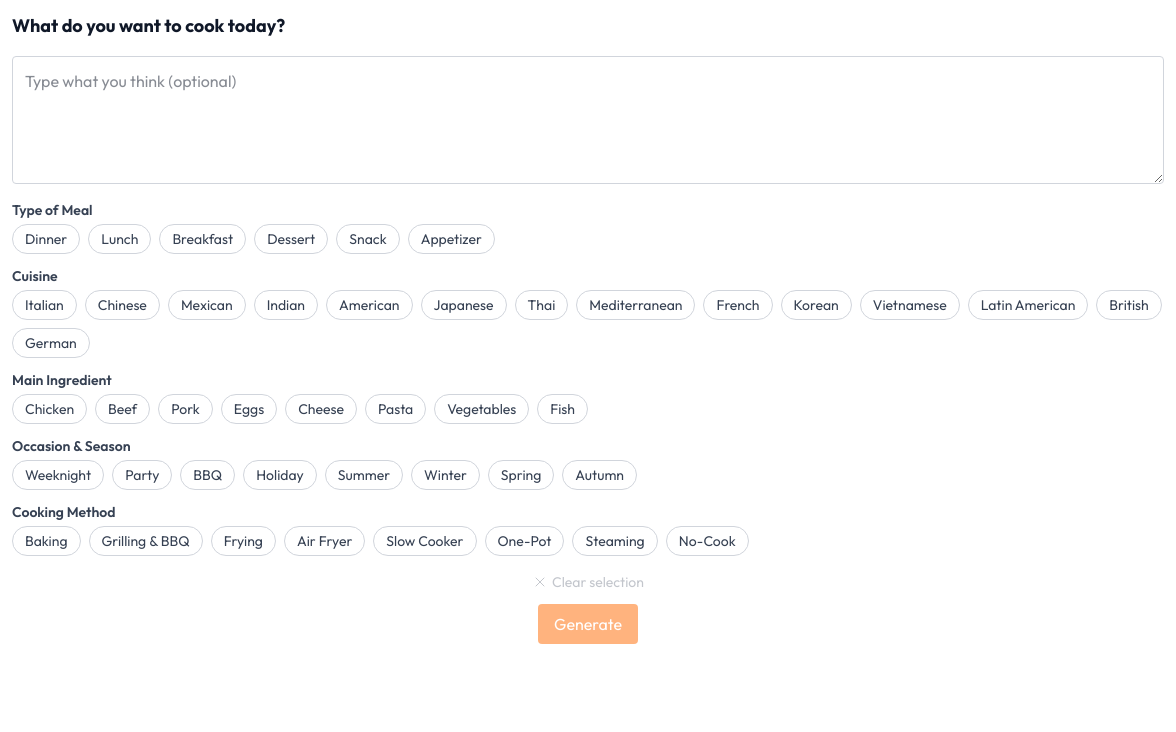
Test case: GeneratePage › clears the prompt and selected tags via the clear button
Expected: the button "Clear selection" is disabled, top-left (532, 572), bottom-right (644, 592)
In the text box with placeholder "Type what you think (optional)": (588, 120) top-left (12, 56), bottom-right (1164, 184), type "pasta"
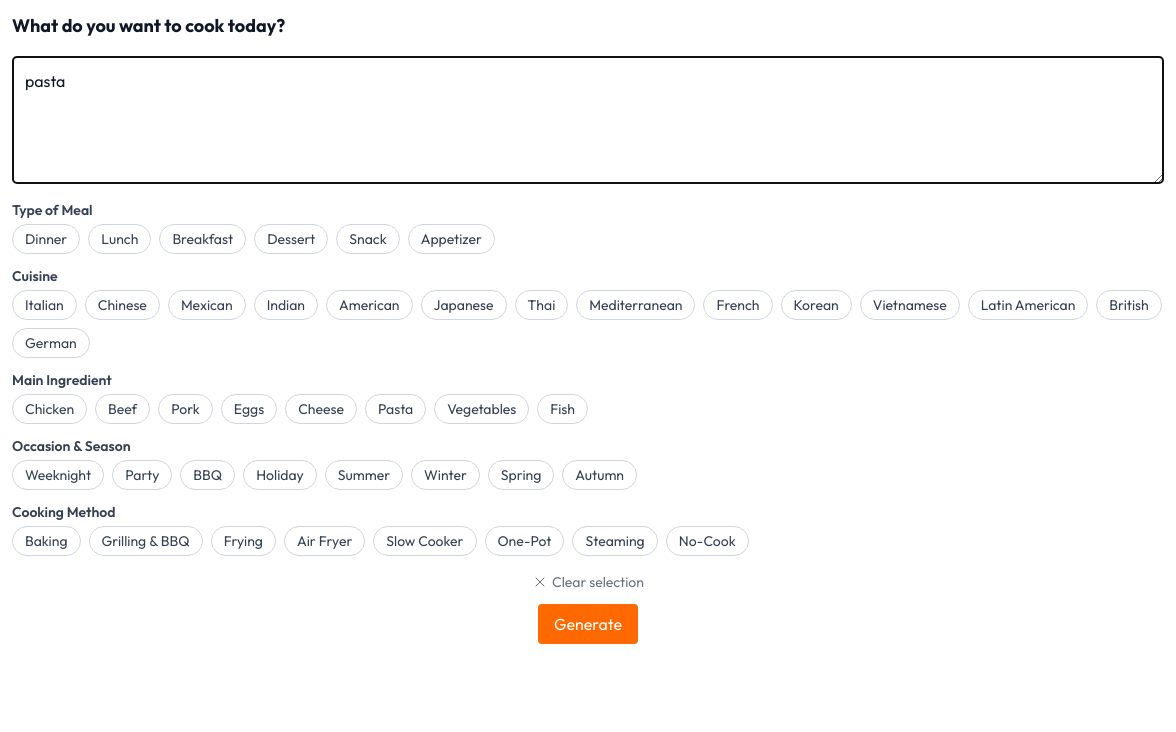
Click the button "Dinner": (46, 239) top-left (12, 224), bottom-right (80, 254)
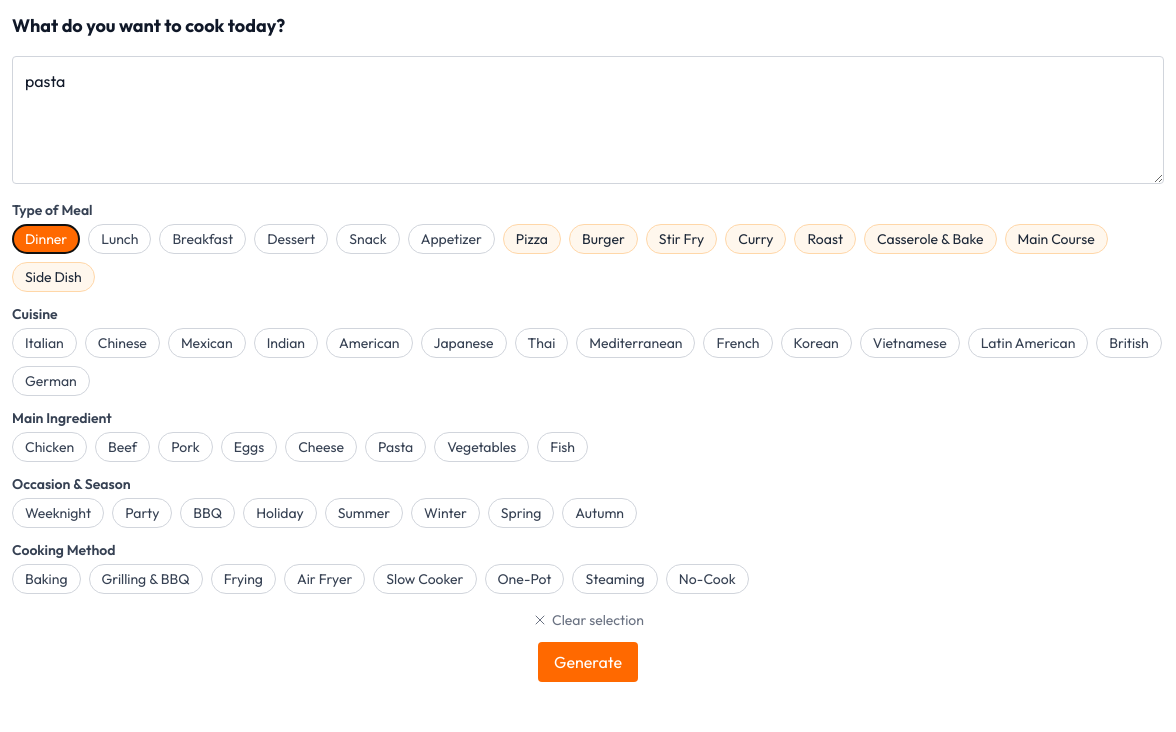
Now the button "Clear selection" is enabled
Click the button "Clear selection": (588, 620) top-left (532, 610), bottom-right (644, 630)
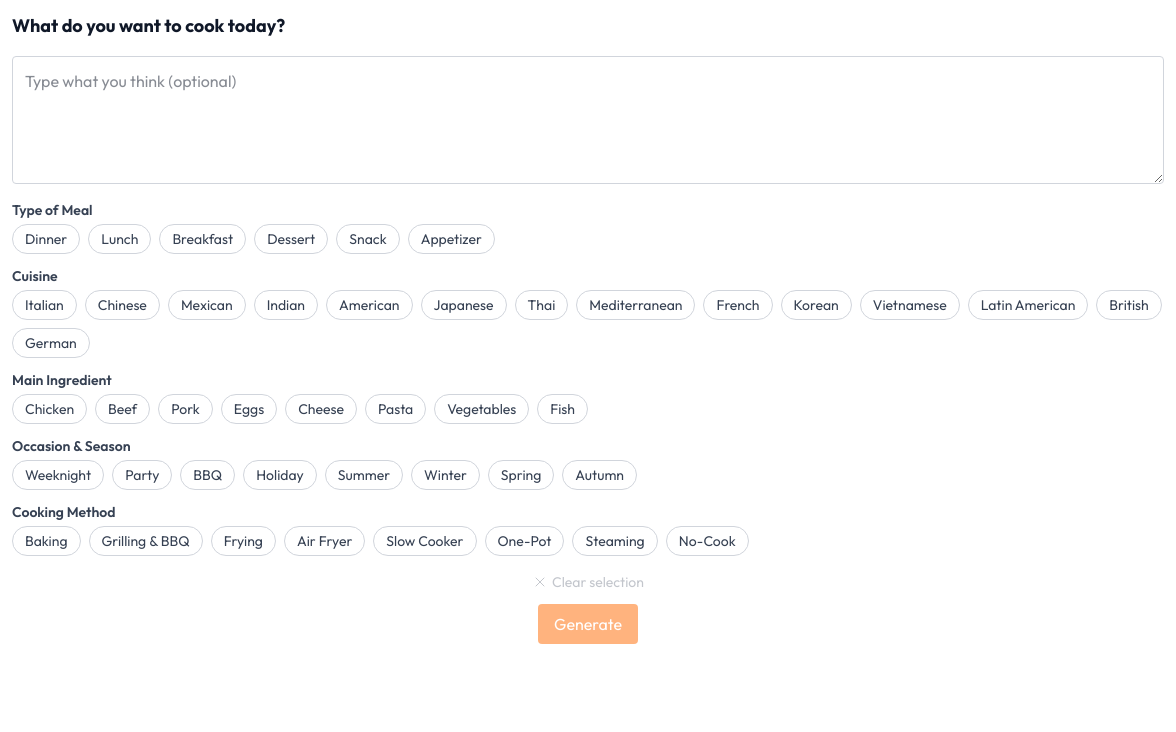
Now the text box with placeholder "Type what you think (optional)" is empty, box top-left (12, 56), bottom-right (1164, 184)
Now the button "Curry" is gone
Now the button "Clear selection" is disabled, box top-left (532, 572), bottom-right (644, 592)
